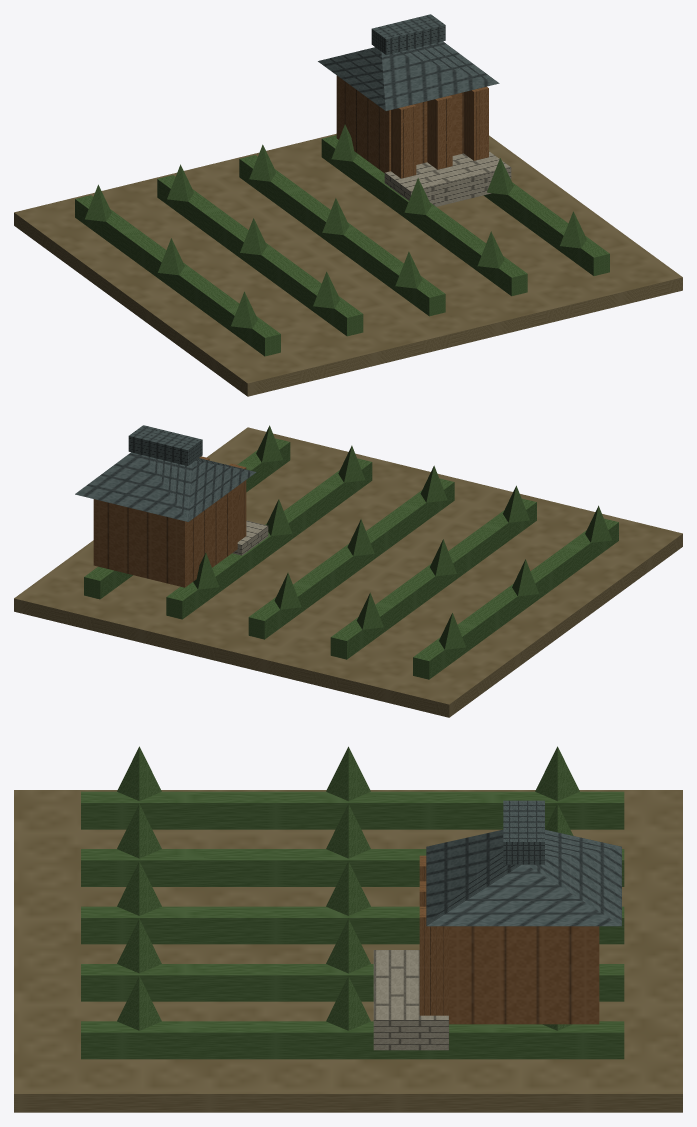
File: domestic-FARM-2-lod0.glb
3 renders of one model, top to bottom at view 1: azimuth 30°, elevation 25°; view 2: azimuth 150°, elevation 25°; view 3: azimuth 270°, elevation 25°, orthographic. The views are drawn at different scales.
Bounding box in the file's own units: 0.86 × 0.296 × 0.8.
1 material, 1 textured.
